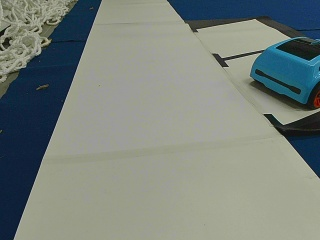car: (250, 34, 317, 108)
